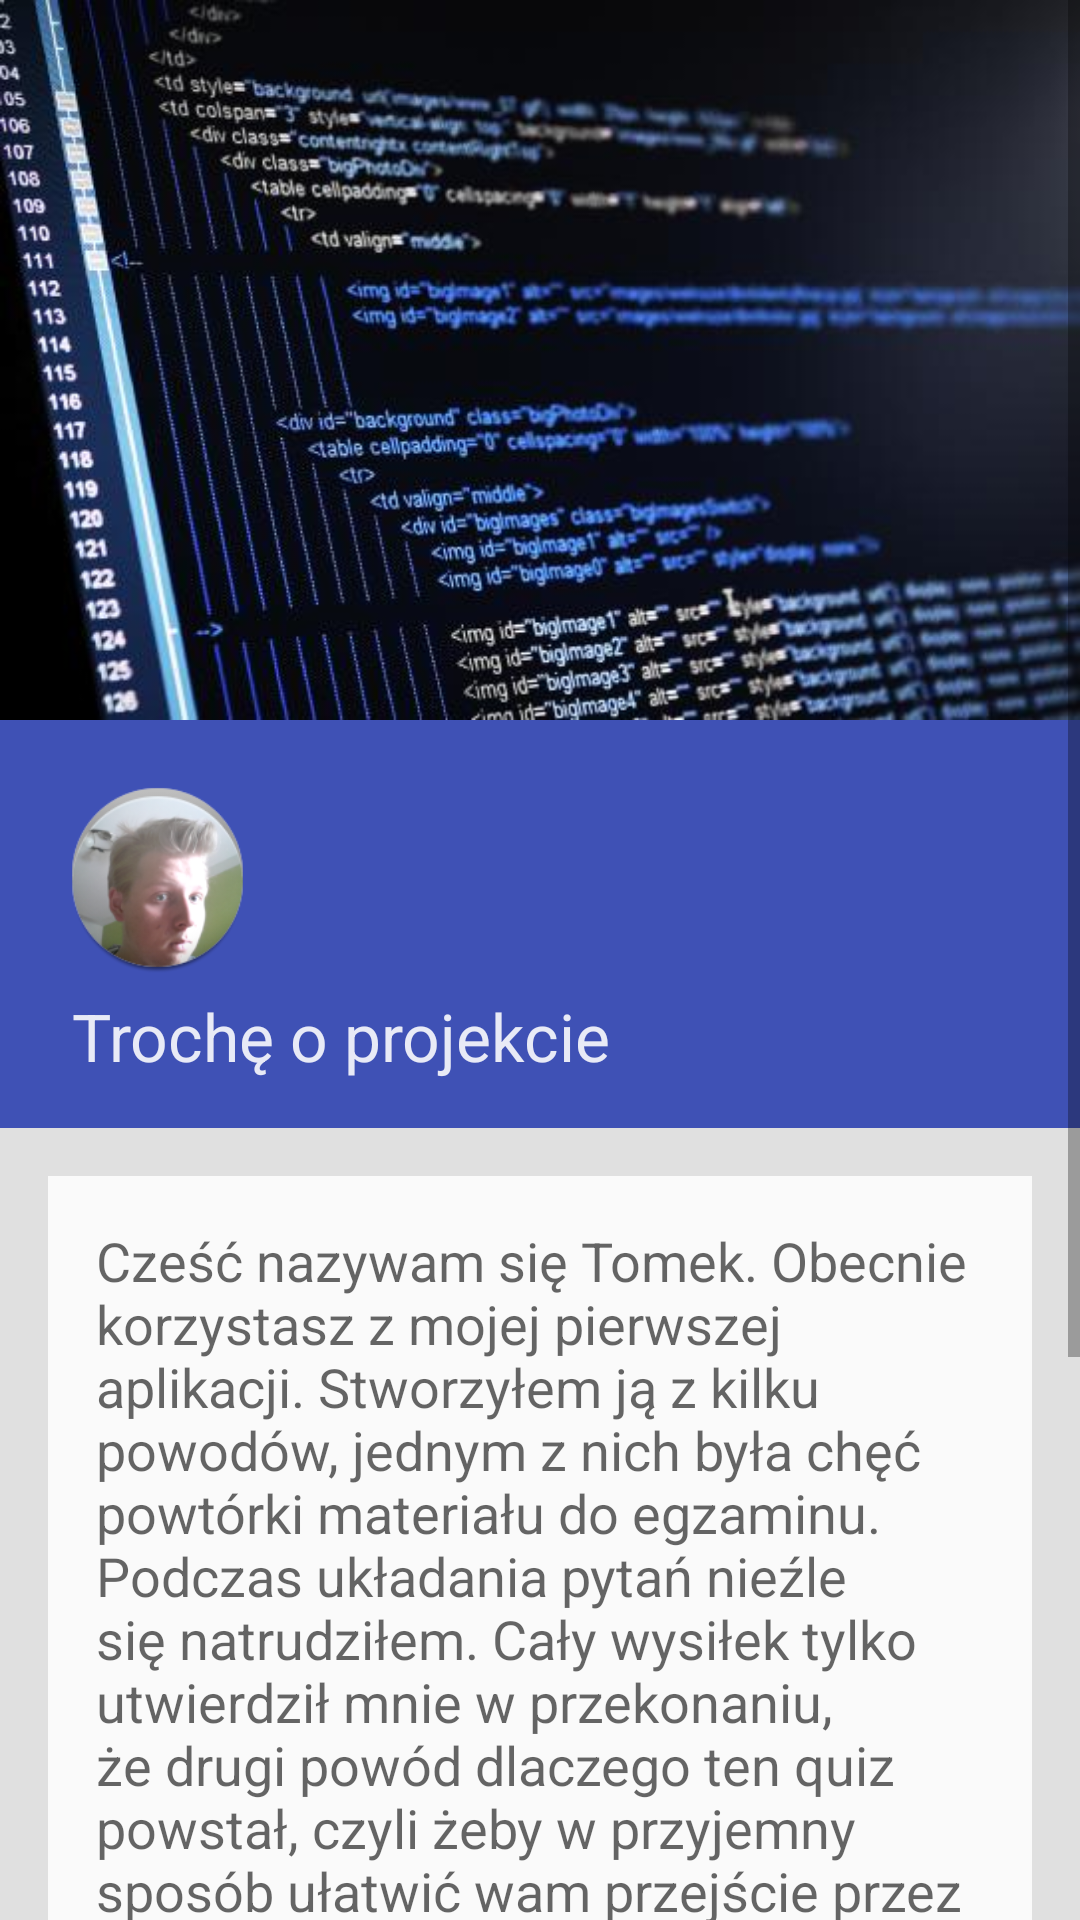

Screen size 1080px x 1920px. Icon name, then its center in pixels as point (x, y):
profilowe: point (157, 879)
